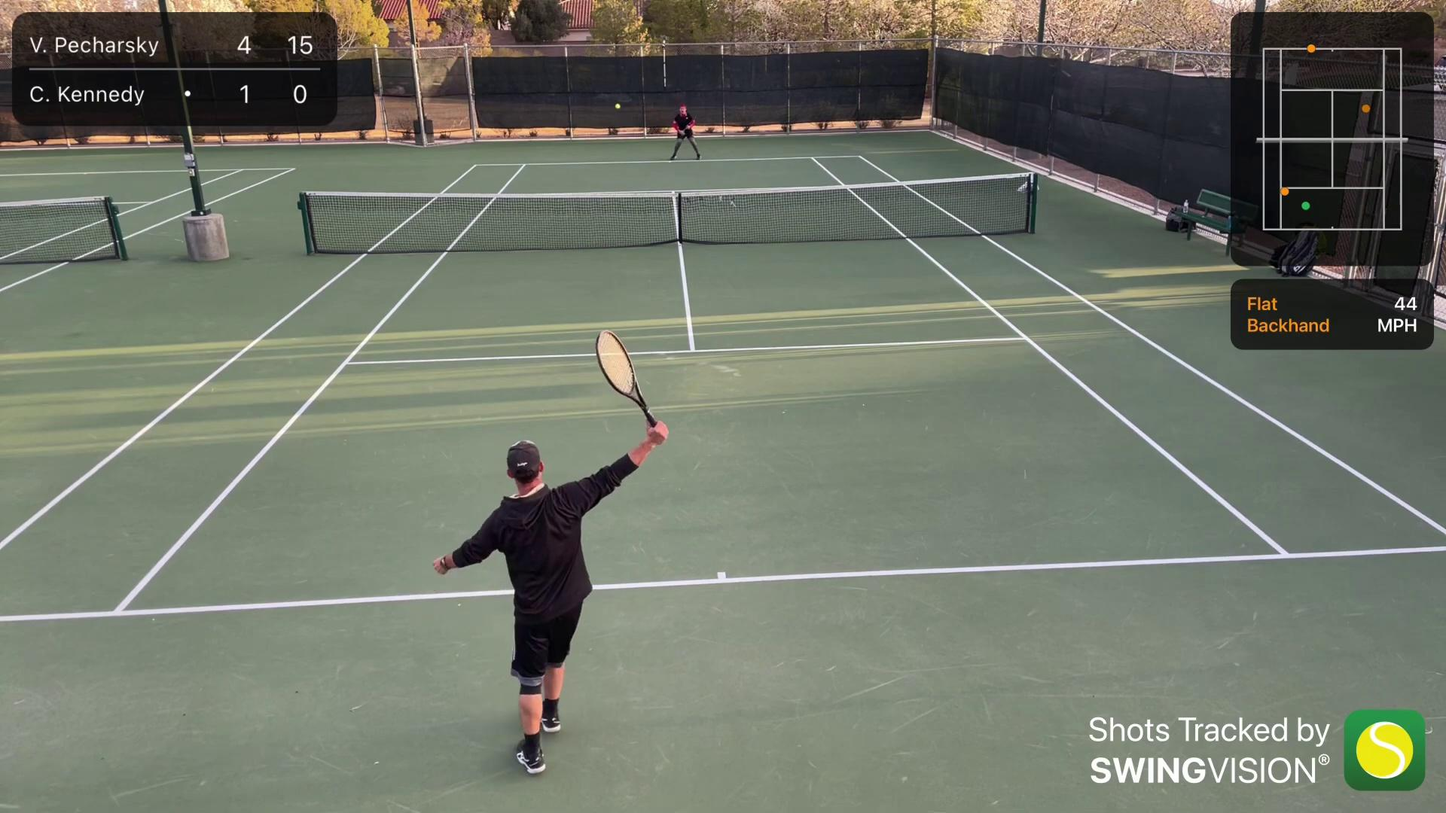ball: (616, 103, 622, 110)
